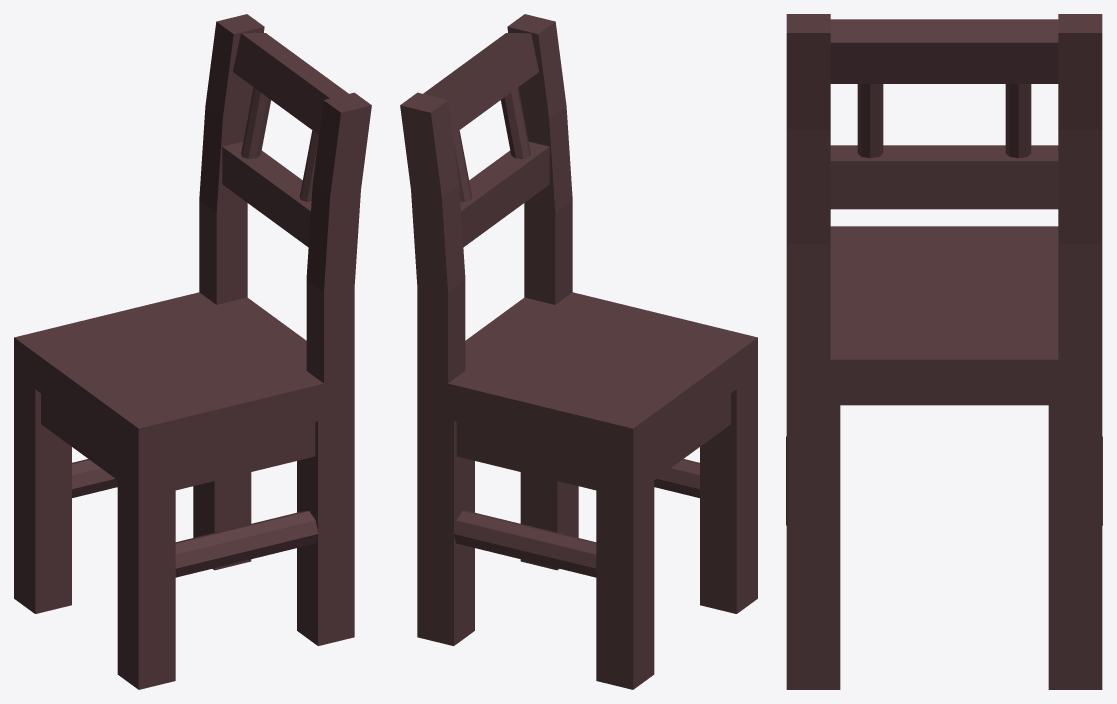
Rendered from chair.fbx.
3 renders of one model, left to right at view 1: azimuth 30°, elevation 25°; view 2: azimuth 150°, elevation 25°; view 3: azimuth 270°, elevation 25°, orthographic. The views are drawn at different scales.
Parts seen in each view (by area): view 1: chair; view 2: chair; view 3: chair.
Boxes of the visible parts, left/top/right/bottom form: chair: left=14, top=14, right=371, bottom=689; chair: left=400, top=14, right=757, bottom=689; chair: left=786, top=14, right=1102, bottom=689.
Bounding box in the file's own units: 0.505 × 1.09 × 0.467.
